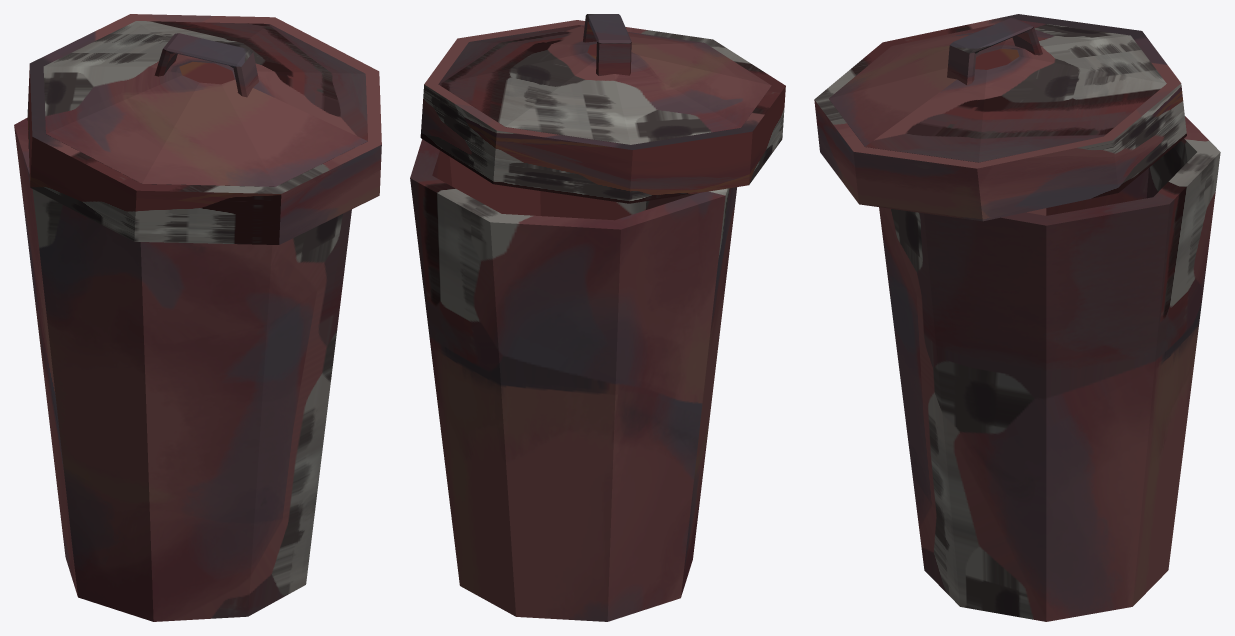
Rendered from trashcan.fbx.
3 views of the same model, side by side, from view 1: azimuth 30°, elevation 25°; view 2: azimuth 150°, elevation 25°; view 3: azimuth 270°, elevation 25° (orthographic). The views are drawn at different scales.
Parts seen in each view (by area): view 1: trashcan; view 2: trashcan; view 3: trashcan.
Boxes of the visible parts, <box> form: trashcan: <box>14,14,381,621</box>; trashcan: <box>410,14,785,621</box>; trashcan: <box>814,14,1220,621</box>.
Size of the model in its own units: 303 by 485 by 333.
